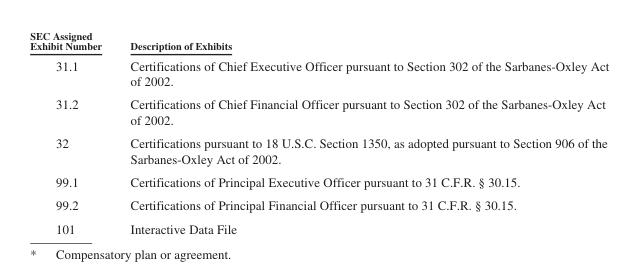table: (29, 29, 608, 235)
table column: (115, 29, 608, 235), (29, 29, 115, 235)
table column header: (29, 29, 608, 54)
table row: (29, 92, 608, 131), (29, 54, 608, 92), (29, 131, 608, 169), (29, 29, 608, 54), (29, 169, 608, 193), (29, 193, 608, 216), (29, 216, 608, 235)
